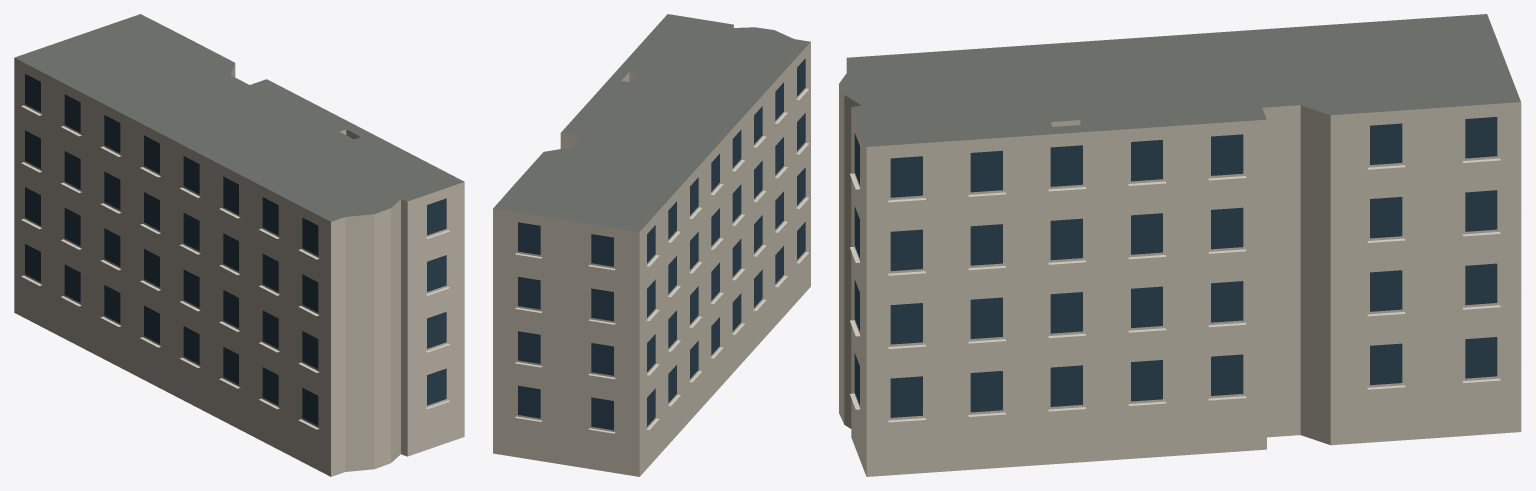
3 views of the same model, side by side, from view 1: azimuth 30°, elevation 25°; view 2: azimuth 150°, elevation 25°; view 3: azimuth 270°, elevation 25° (orthographic). The views are drawn at different scales.
Visible parts, largest first — view 1: Footprint 0, Inferred window bays, Window sills; view 2: Footprint 0, Inferred window bays, Window sills; view 3: Footprint 0, Inferred window bays, Window sills.
Boxes of the visible parts, bbox=[...] form: Footprint 0: bbox=[14, 14, 464, 476]; Inferred window bays: bbox=[25, 74, 446, 425]; Window sills: bbox=[21, 105, 449, 429]; Footprint 0: bbox=[493, 14, 810, 476]; Inferred window bays: bbox=[518, 58, 805, 430]; Window sills: bbox=[515, 88, 809, 433]; Footprint 0: bbox=[839, 14, 1521, 476]; Inferred window bays: bbox=[854, 117, 1497, 417]; Window sills: bbox=[850, 141, 1521, 422].
Size of the model in its own units: 12.14 by 13.81 by 25.89.
